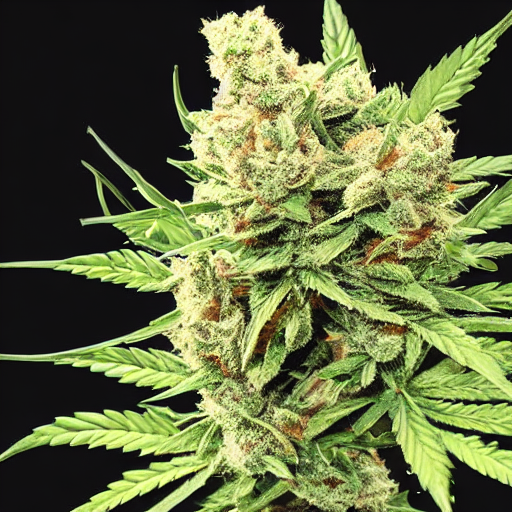Marijuana Joint: (22, 1, 494, 494)
